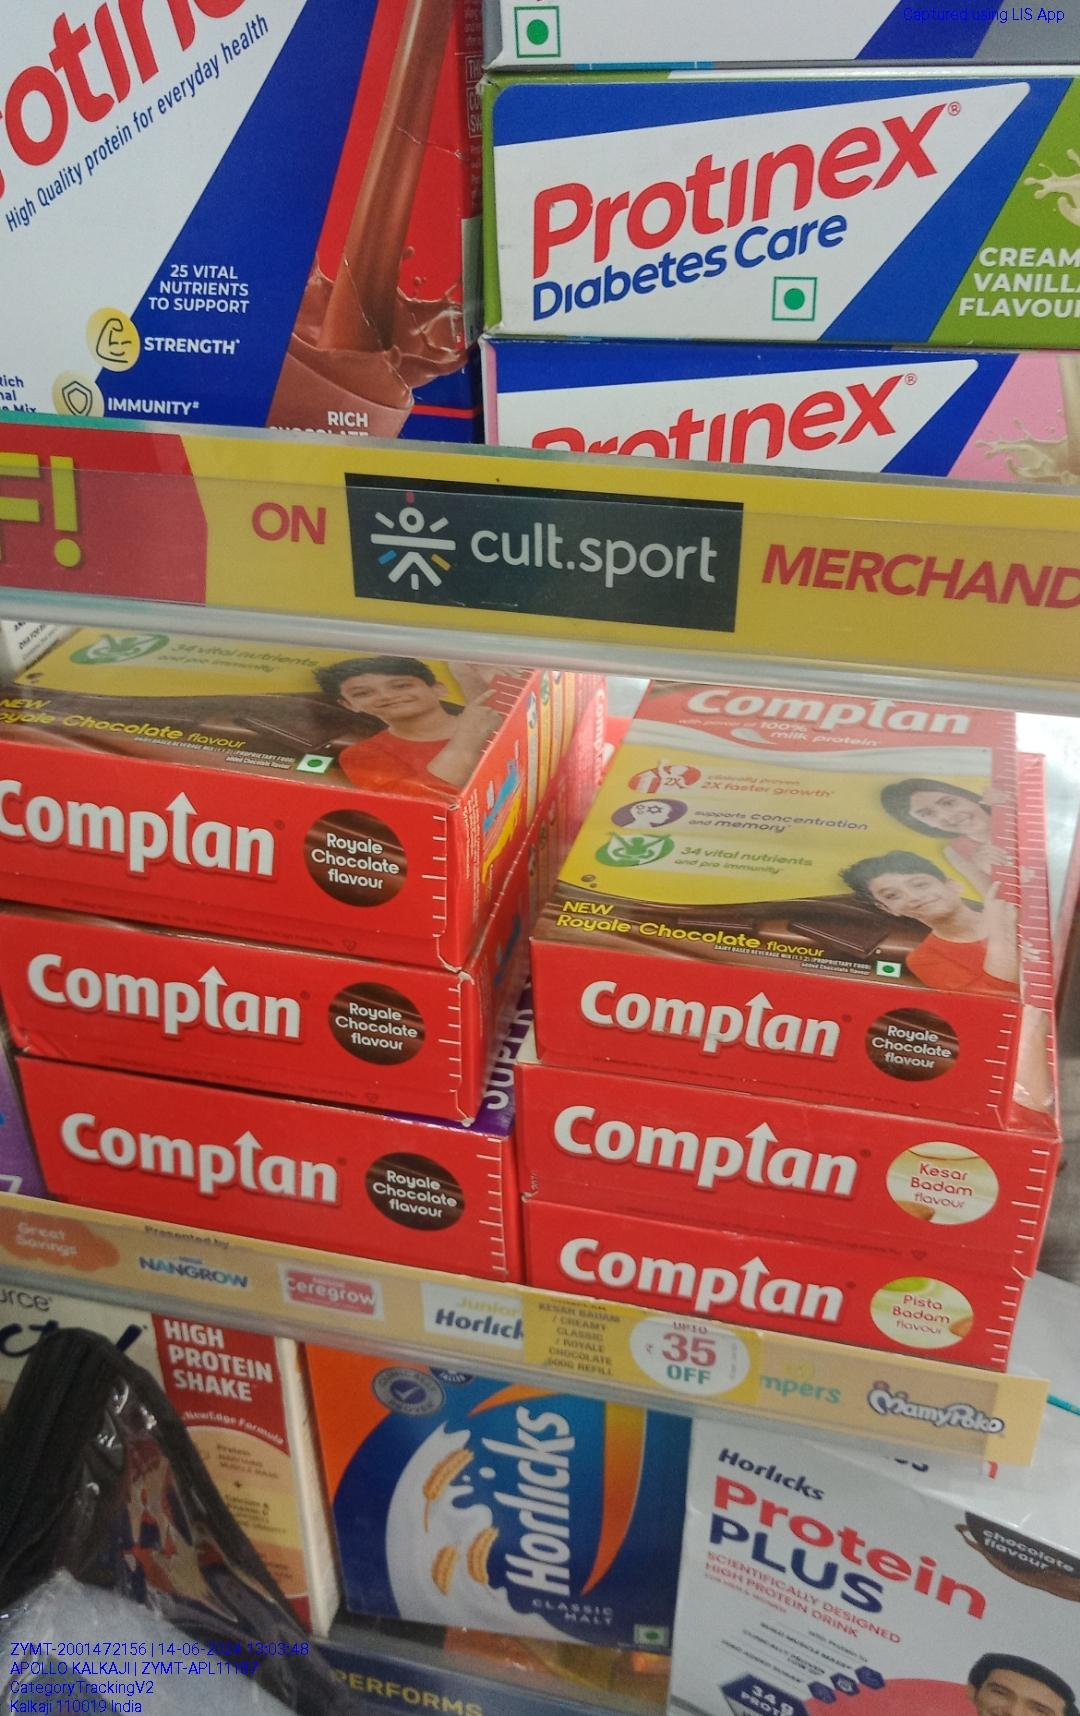HORLICK_CLASSIC_MALT_500_G_PACK: (317, 1351, 674, 1658)
